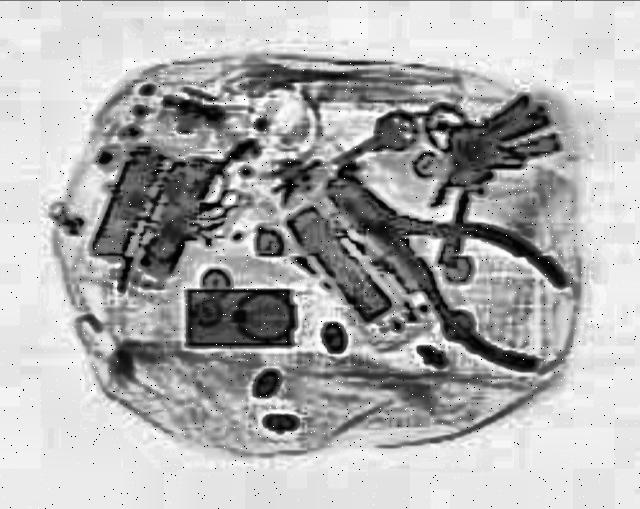Pliers: (274, 142, 616, 387)
